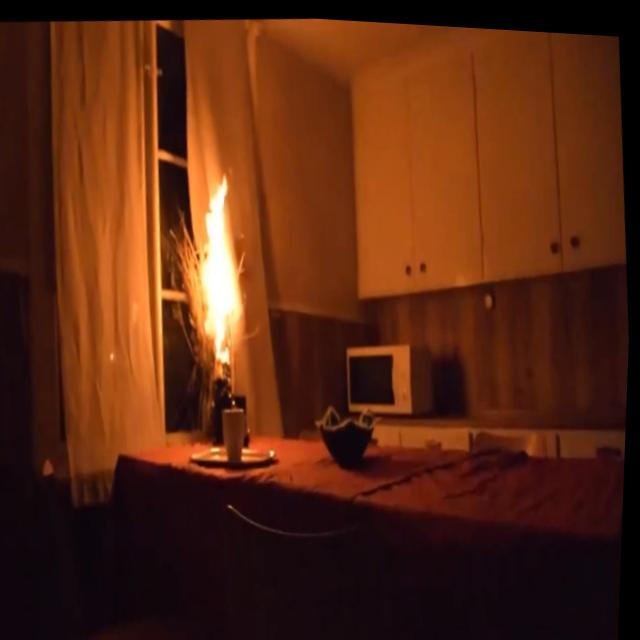fire: (186, 151, 262, 365)
